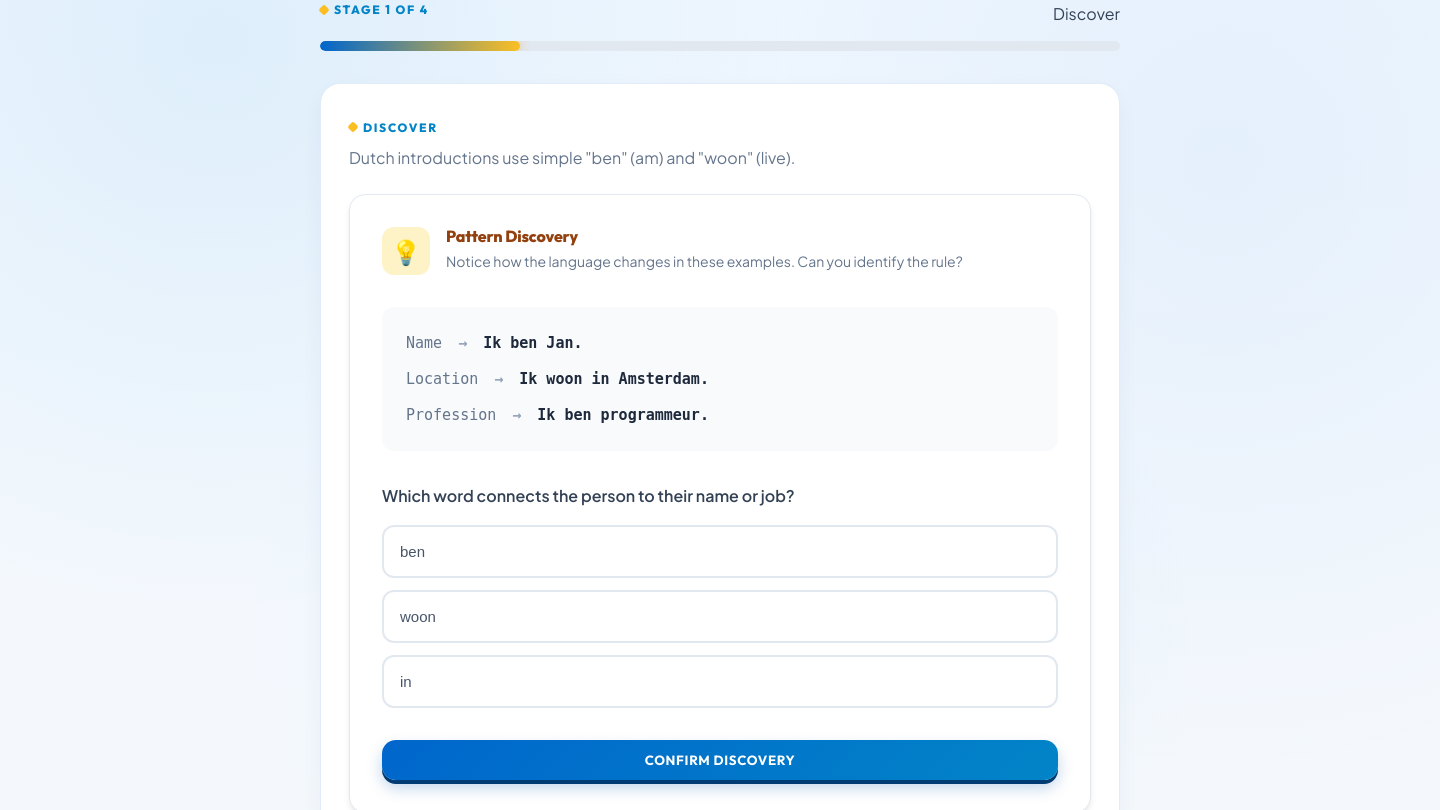
Test: chapter page › submits an induction answer and renders feedback
Pick an incorrect rule option ("woon") so the induction check returns a retry outcome
Click the button with class "option-button" showing "woon": (418, 616) [382,590,1058,643]
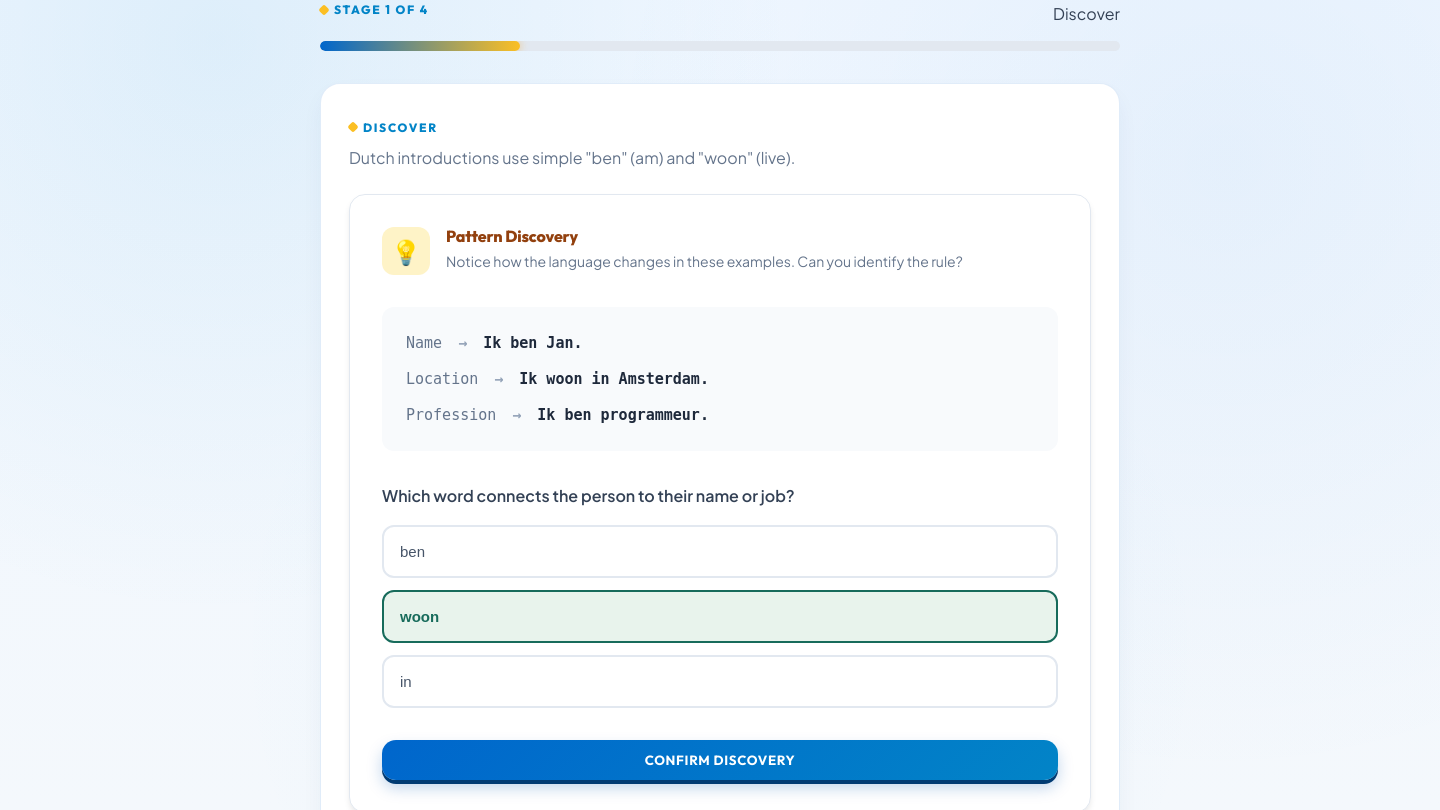
Click the button "Confirm Discovery": (720, 760) [382,740,1058,780]
(page scrolled)
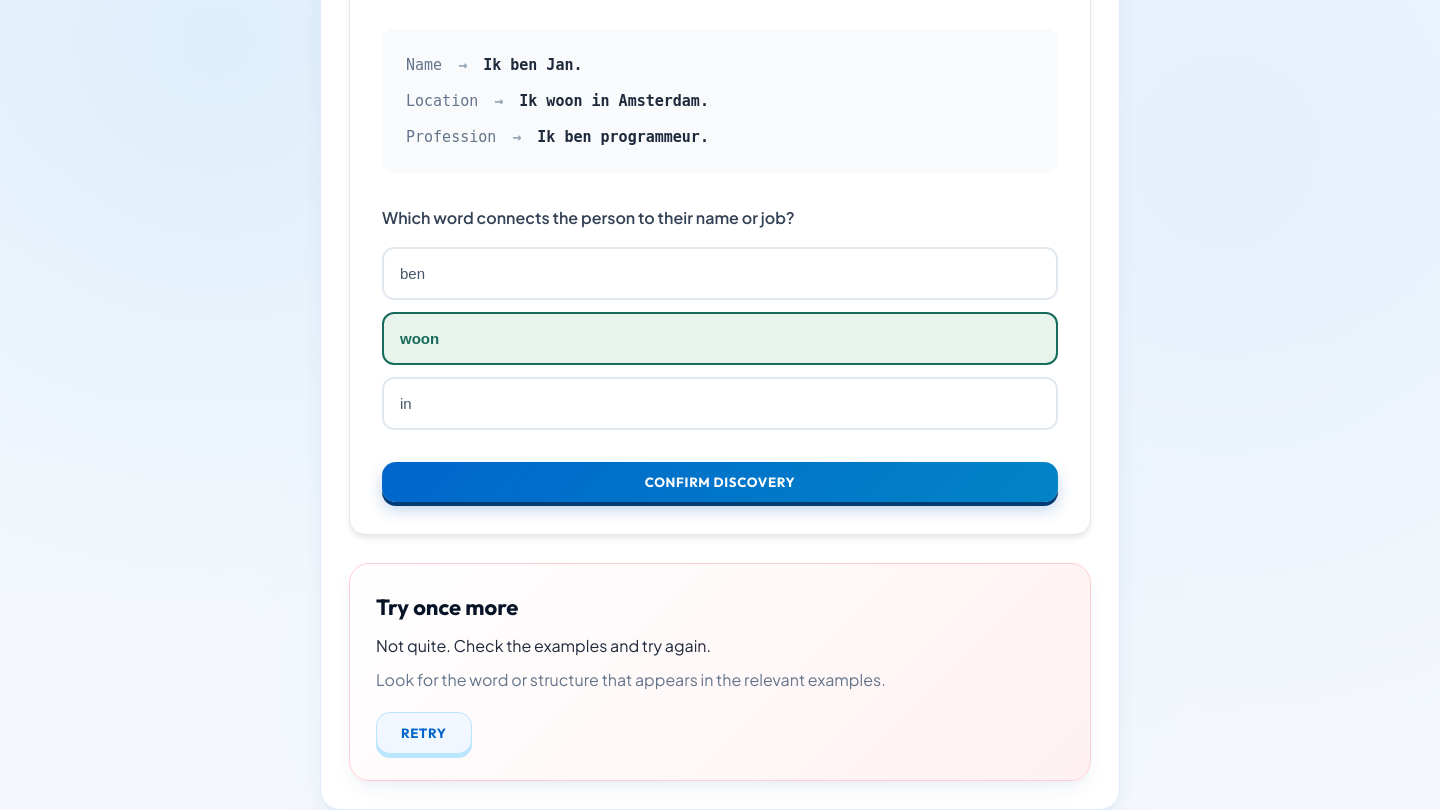
Expected: the element with class "feedback" is shown, [349,563,1091,781]
Expected: the element with class "feedback" shows "Try once more", [376,593,518,621]
